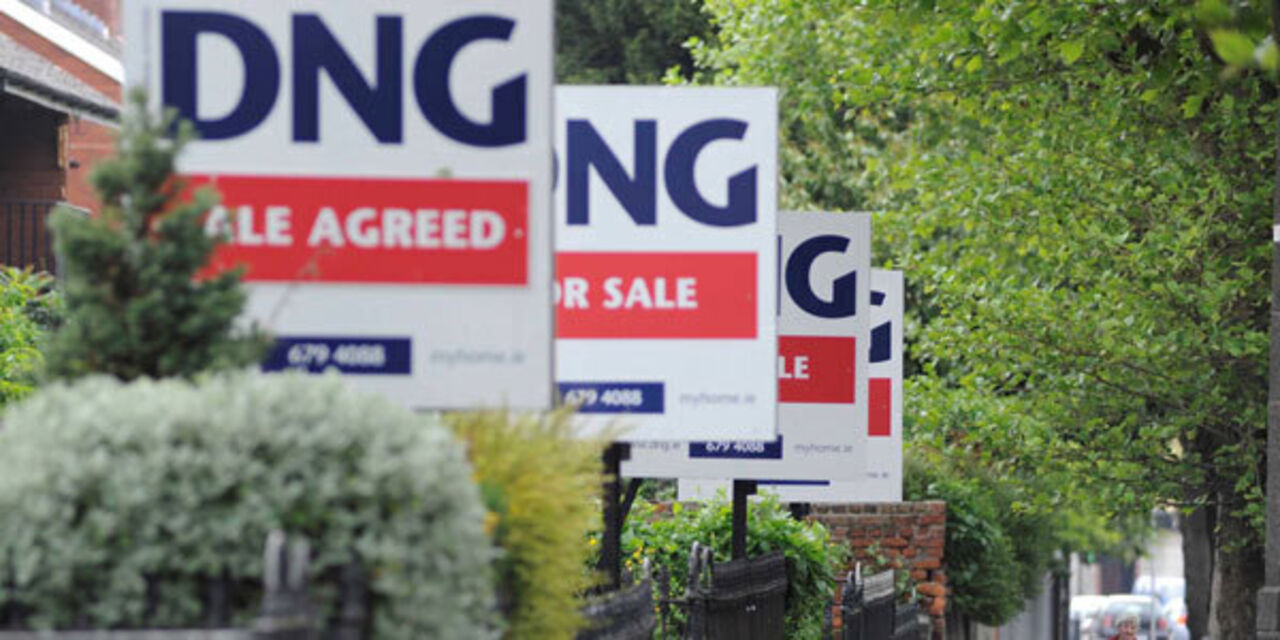property sign: (123, 1, 571, 445), (545, 76, 781, 457), (770, 200, 872, 493)
